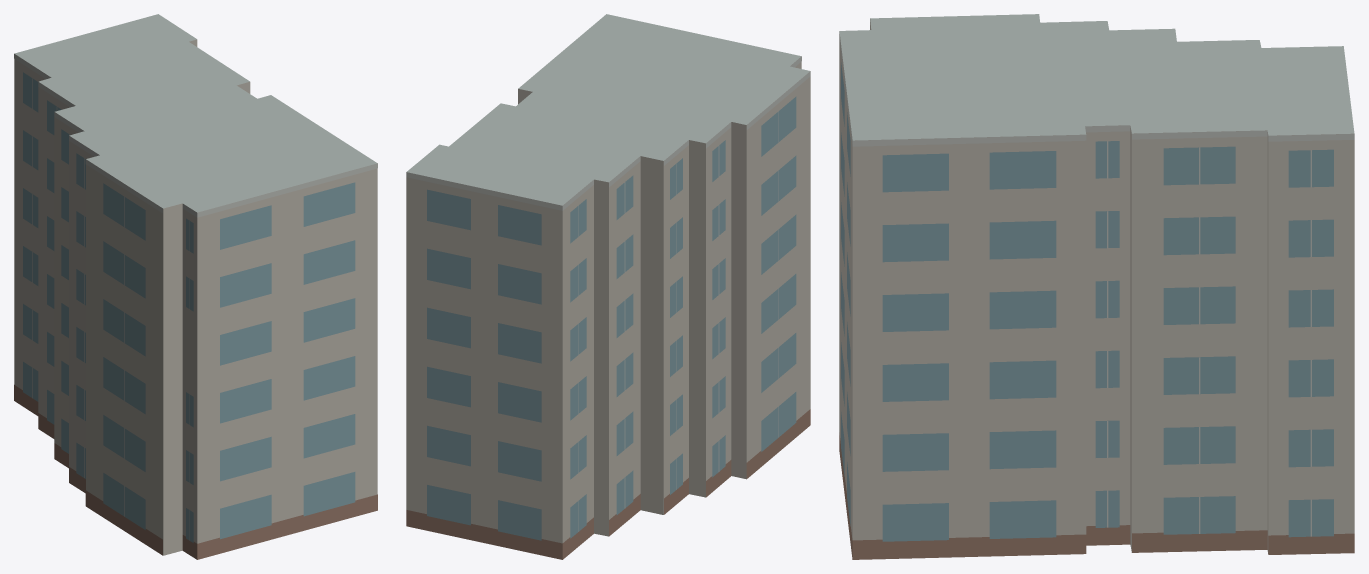
Rendered from survey-upis-32705995.glb.
3 renders of one model, left to right at view 1: azimuth 30°, elevation 25°; view 2: azimuth 150°, elevation 25°; view 3: azimuth 270°, elevation 25°, orthographic. The views are drawn at different scales.
Visible parts, largest first — view 1: survey-upis-32705995.tmp; view 2: survey-upis-32705995.tmp; view 3: survey-upis-32705995.tmp.
Boxes of the visible parts, left/top/right/bottom form: survey-upis-32705995.tmp: left=14, top=14, right=377, bottom=559; survey-upis-32705995.tmp: left=406, top=14, right=810, bottom=559; survey-upis-32705995.tmp: left=839, top=14, right=1354, bottom=559.
Size of the model in its own units: 10.75 by 16.6 by 18.49.
